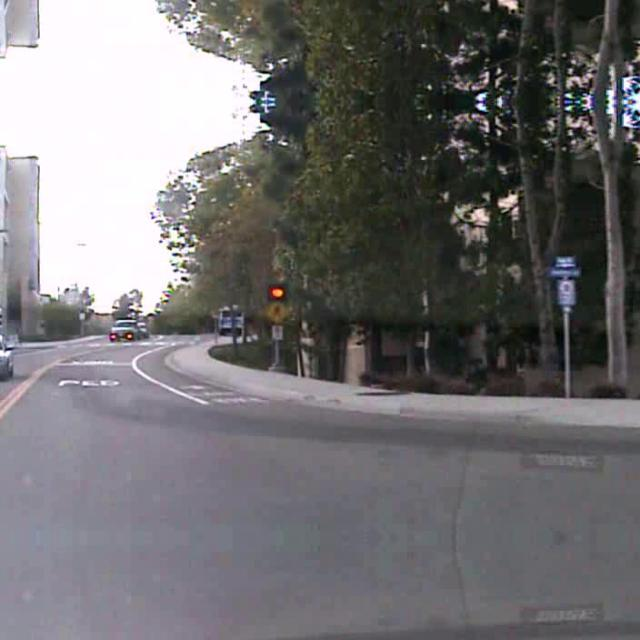pedestrianCrossing: (262, 299, 290, 323)
